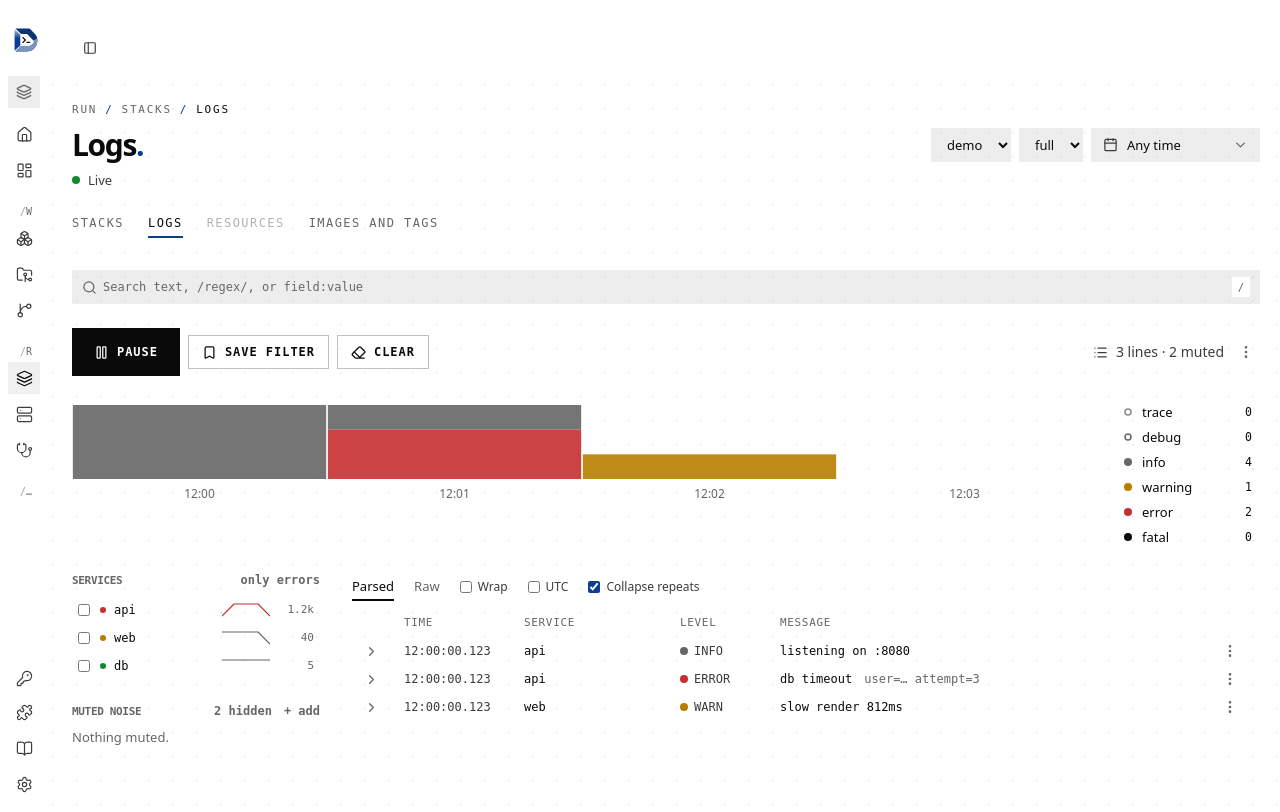
Test: the Logs page › shows no Errors section while there are no errors
Expected: the number of options is 3, [352,637,1260,665]; [352,665,1260,693]; [352,693,1260,721]
Click the button named "More actions" at (1246, 352), box [1232,338,1260,366]
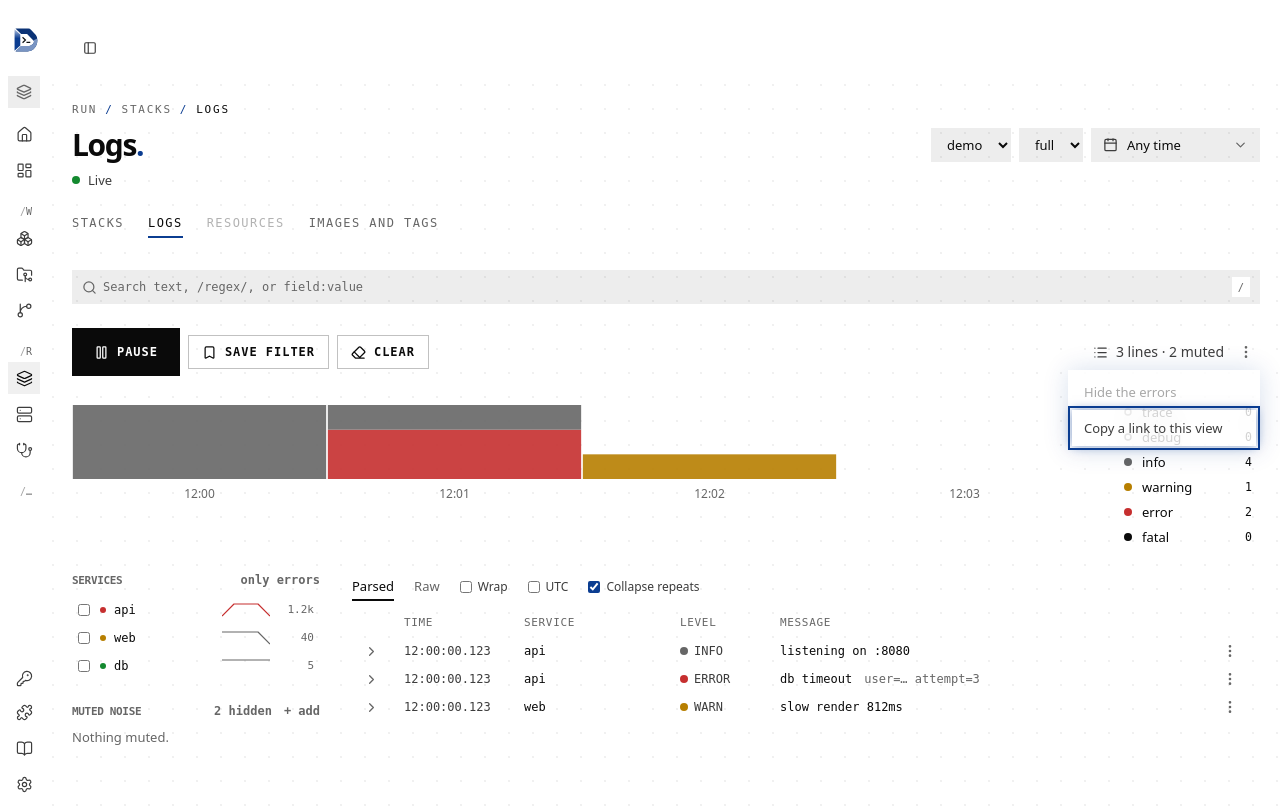
Now the menu item "Hide the errors" is disabled, box [1072,374,1256,410]
